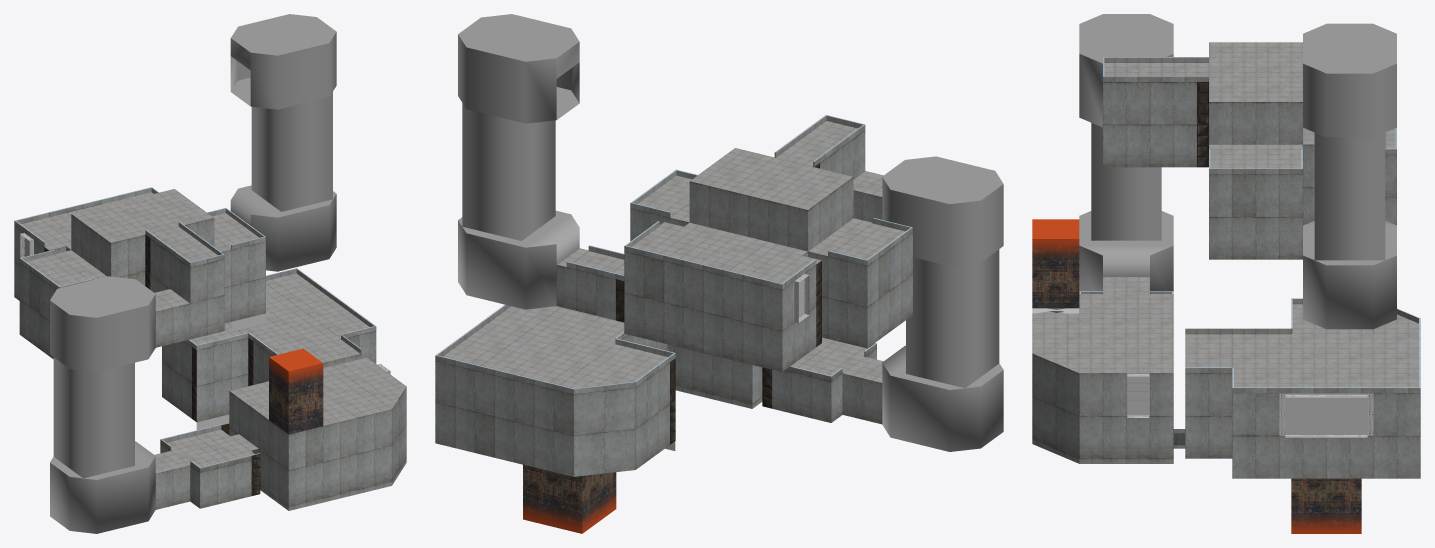
File: testchmb_a_00.fbx
3 views of the same model, side by side, from view 1: azimuth 30°, elevation 25°; view 2: azimuth 150°, elevation 25°; view 3: azimuth 270°, elevation 25° (orthographic). The views are drawn at different scales.
Visible parts, largest first — view 1: Lift001, Lift_002_exit, Room002, Room004, Room001, Room004.001, Room003; view 2: Room004, Room001, Lift_002_exit, Lift001, Room003, Room004.001, Room005, Room002; view 3: Room001, Room002, Lift_002_exit, Room004, Lift001, Room004.001, Room001_glass, Room003, Room002_glass.
Part boxes in pixels (left/top/right/bottom): Lift001: left=50, top=276, right=155, bottom=533; Lift_002_exit: left=230, top=14, right=336, bottom=271; Room002: left=229, top=348, right=406, bottom=510; Room004: left=14, top=187, right=265, bottom=358; Room001: left=162, top=268, right=376, bottom=434; Room004.001: left=145, top=222, right=224, bottom=347; Room003: left=155, top=424, right=260, bottom=509; Room004: left=624, top=148, right=912, bottom=371; Room001: left=435, top=304, right=675, bottom=533; Lift_002_exit: left=458, top=14, right=579, bottom=309; Lift001: left=882, top=156, right=1003, bottom=451; Room003: left=762, top=337, right=883, bottom=424; Room004.001: left=775, top=115, right=883, bottom=222; Room005: left=556, top=245, right=624, bottom=322; Room002: left=667, top=344, right=762, bottom=408; Room001: left=1184, top=298, right=1420, bottom=533; Room002: left=1032, top=219, right=1185, bottom=463; Lift_002_exit: left=1303, top=23, right=1396, bottom=329; Room004: left=1209, top=42, right=1396, bottom=259; Lift001: left=1079, top=14, right=1173, bottom=291; Room004.001: left=1103, top=57, right=1208, bottom=167; Room001_glass: left=1285, top=397, right=1367, bottom=434; Room003: left=1079, top=277, right=1173, bottom=293; Room002_glass: left=1127, top=376, right=1149, bottom=415.
Bounding box in the file's own units: 2596 × 2012 × 2804.
